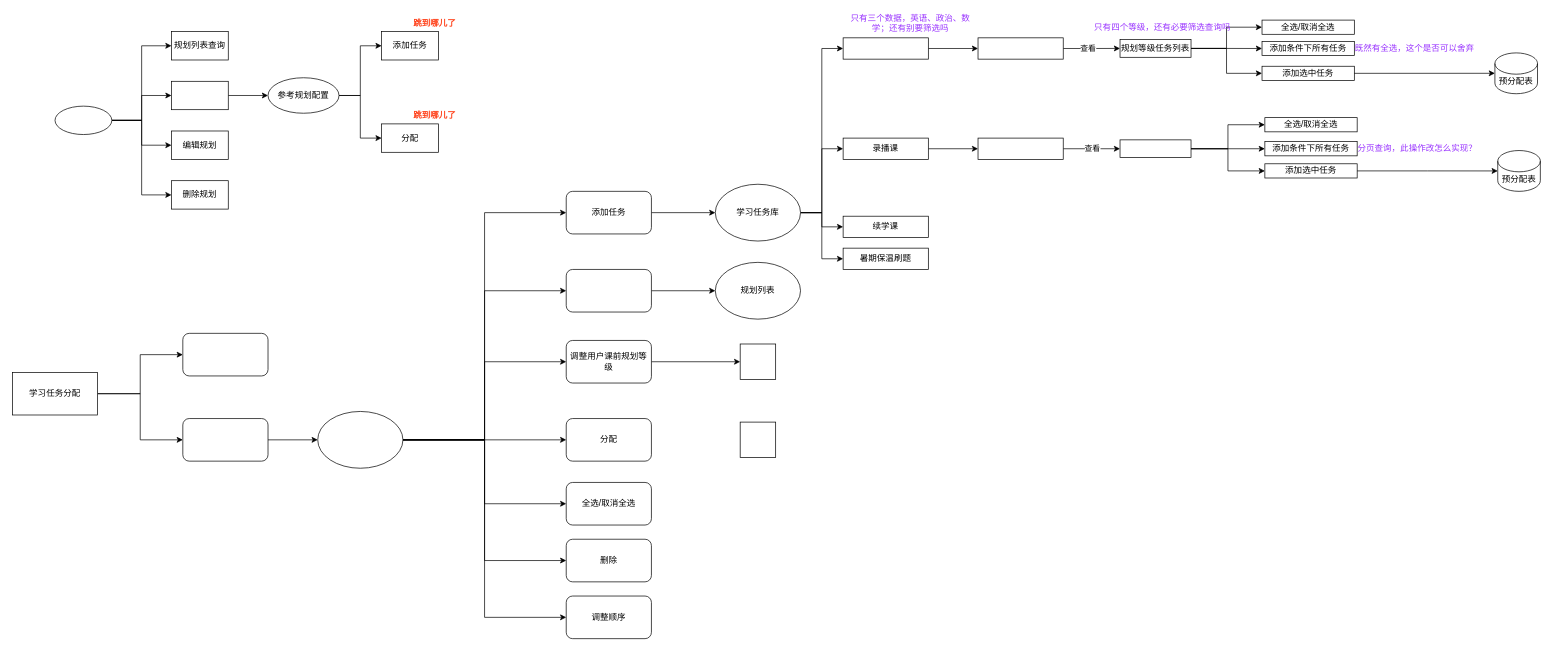
This 1553x651 diagram has some shape labels left out. Here are the shapes that lost their labels. From the top down, the centre of each, then its label:
At pixel 885 48: "课前规划".
At pixel 1020 48: "课前规划列表".
At pixel 199 95: "新建规划".
At pixel 83 120: "学习参考规划".
At pixel 1020 148: "录播课列表".
At pixel 1155 148: "录播课子任务列表".
At pixel 608 290: "参考规则".
At pixel 225 354: "分配列表查询".
At pixel 757 361: "弹窗 调节 课程 规划".
At pixel 225 439: "为学员分配任务".
At pixel 360 439: "分配详情页".
At pixel 757 439: "弹窗 分配规则".
